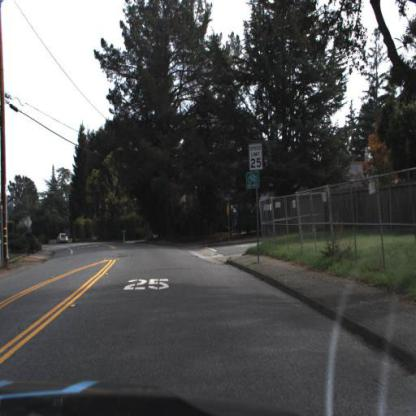car: (54, 230, 72, 248), (56, 230, 68, 245)
